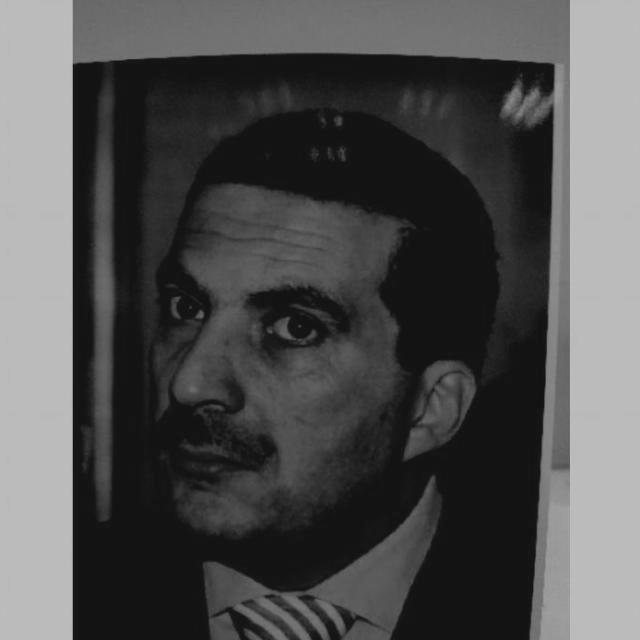fake: (72, 52, 567, 640)
